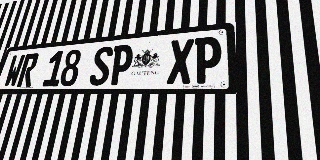1: (42, 50, 66, 87)
8: (58, 49, 83, 86)
P: (193, 36, 222, 84), (108, 44, 134, 85)
R: (16, 53, 40, 87)
S: (88, 46, 114, 86)
W: (3, 54, 26, 87)
X: (167, 38, 194, 84)
